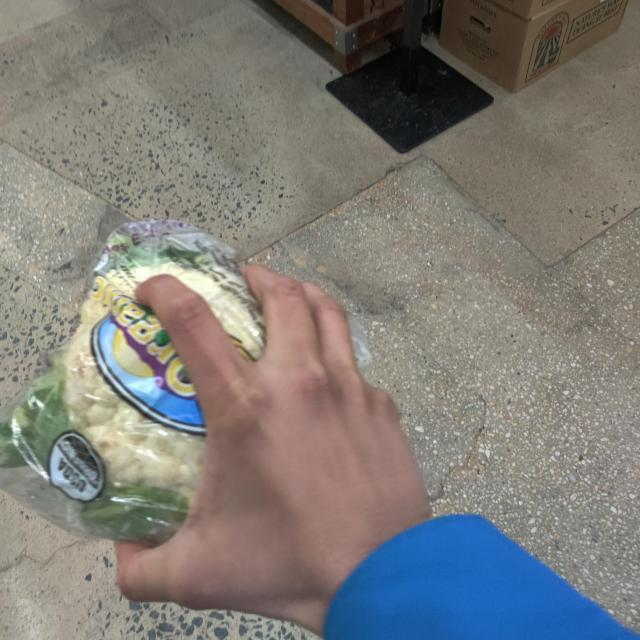Cauliflower: (6, 231, 267, 543)
